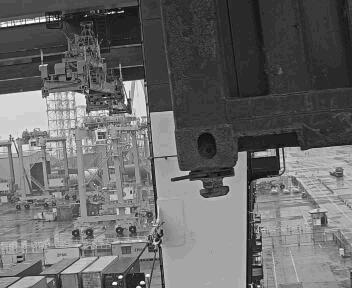twist_lock_1: (173, 163, 231, 201)
